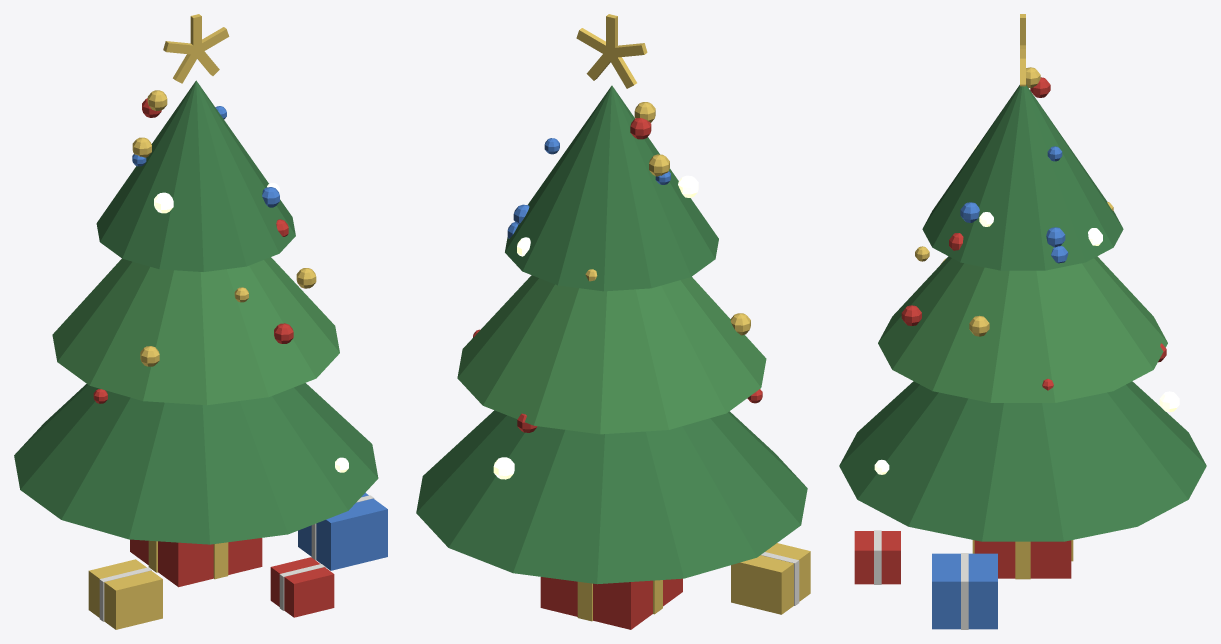
The model's file is xmas_tree.glb.
The picture shows the model from 3 angles, left to right: view 1: azimuth 30°, elevation 25°; view 2: azimuth 150°, elevation 25°; view 3: azimuth 270°, elevation 25°; orthographic projection. The views are drawn at different scales.
Parts seen in each view (by area): view 1: xmas_tree; view 2: xmas_tree; view 3: xmas_tree.
Boxes of the visible parts, bbox=[...] form: xmas_tree: bbox=[14, 14, 387, 629]; xmas_tree: bbox=[416, 14, 810, 629]; xmas_tree: bbox=[839, 14, 1206, 629].
Bounding box in the file's own units: 1.85 × 3.09 × 1.9.
